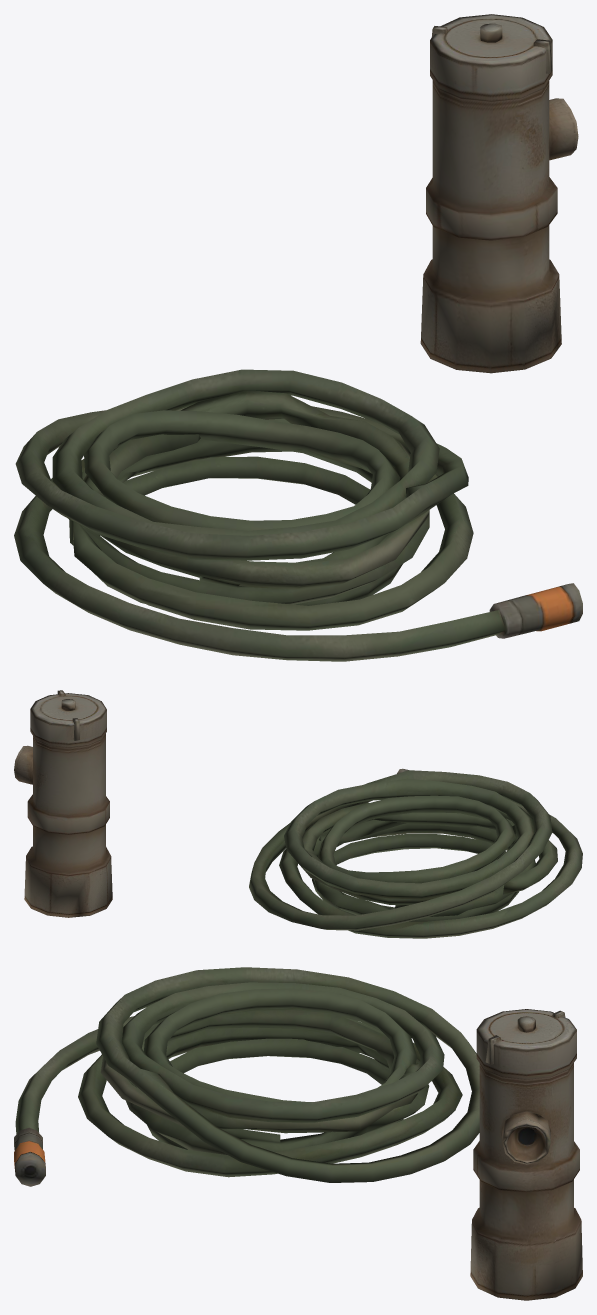
File: WaterHose.fbx
3 views of the same model, one above another, from view 1: azimuth 30°, elevation 25°; view 2: azimuth 150°, elevation 25°; view 3: azimuth 270°, elevation 25° (orthographic). The views are drawn at different scales.
Visible parts, largest first — view 1: tripo_node_00b254b9-cccd-4177-a0b6-8036fde5ff4d, tripo_node_00b254b9-cccd-4177-a0b6-8036fde5ff4d.001; view 2: tripo_node_00b254b9-cccd-4177-a0b6-8036fde5ff4d, tripo_node_00b254b9-cccd-4177-a0b6-8036fde5ff4d.001; view 3: tripo_node_00b254b9-cccd-4177-a0b6-8036fde5ff4d, tripo_node_00b254b9-cccd-4177-a0b6-8036fde5ff4d.001.
Part boxes in pixels (x1,y1,x2,y2): tripo_node_00b254b9-cccd-4177-a0b6-8036fde5ff4d: (14,369,582,661); tripo_node_00b254b9-cccd-4177-a0b6-8036fde5ff4d.001: (420,14,578,373); tripo_node_00b254b9-cccd-4177-a0b6-8036fde5ff4d: (249,768,582,938); tripo_node_00b254b9-cccd-4177-a0b6-8036fde5ff4d.001: (14,690,112,917); tripo_node_00b254b9-cccd-4177-a0b6-8036fde5ff4d: (14,967,479,1186); tripo_node_00b254b9-cccd-4177-a0b6-8036fde5ff4d.001: (470,1009,582,1300).
Size of the model in its own units: 82.42 by 36.52 by 73.05.
Materials: 1 (1 with a texture image).
